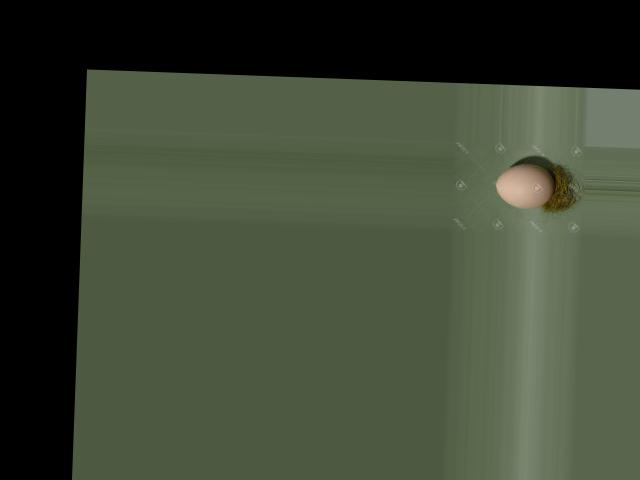egg: (494, 162, 554, 209)
